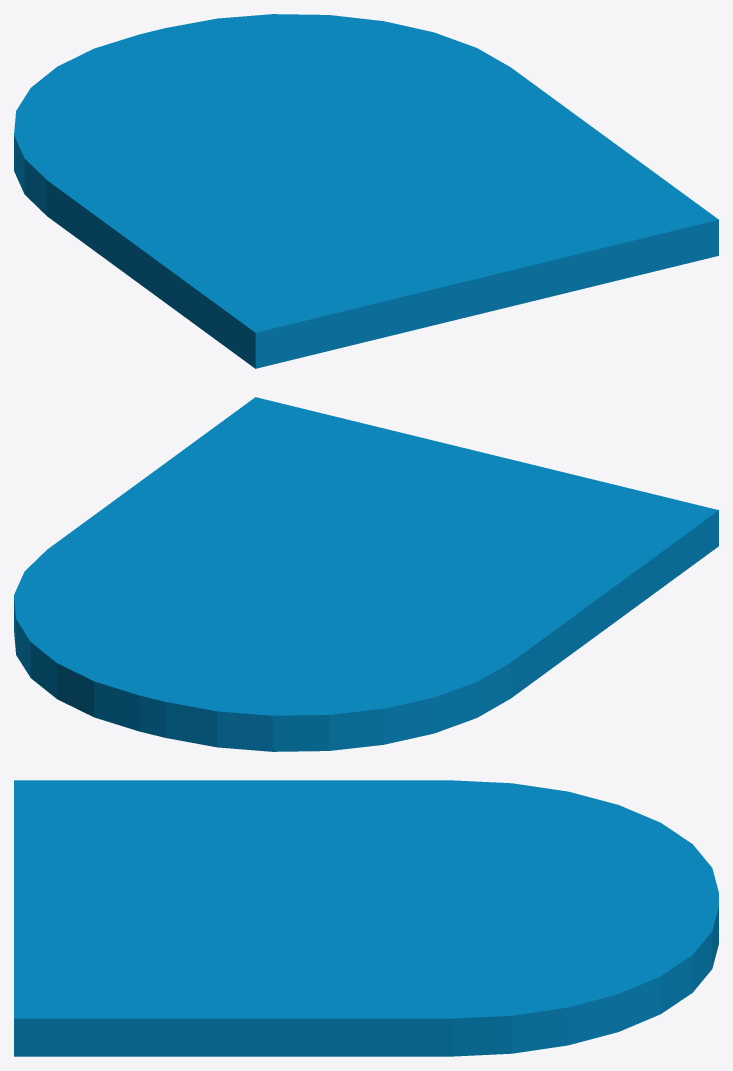
The picture shows the model from 3 angles, top to bottom: view 1: azimuth 30°, elevation 25°; view 2: azimuth 150°, elevation 25°; view 3: azimuth 270°, elevation 25°; orthographic projection. The views are drawn at different scales.
Visible parts, largest first — view 1: robot-top_plate_000; view 2: robot-top_plate_000; view 3: robot-top_plate_000.
Boxes of the visible parts, left/top/right/bottom form: robot-top_plate_000: left=14, top=14, right=718, bottom=368; robot-top_plate_000: left=14, top=397, right=718, bottom=751; robot-top_plate_000: left=14, top=780, right=718, bottom=1056.
Bounding box in the file's own units: 0.4662 × 0.5833 × 0.0347.
